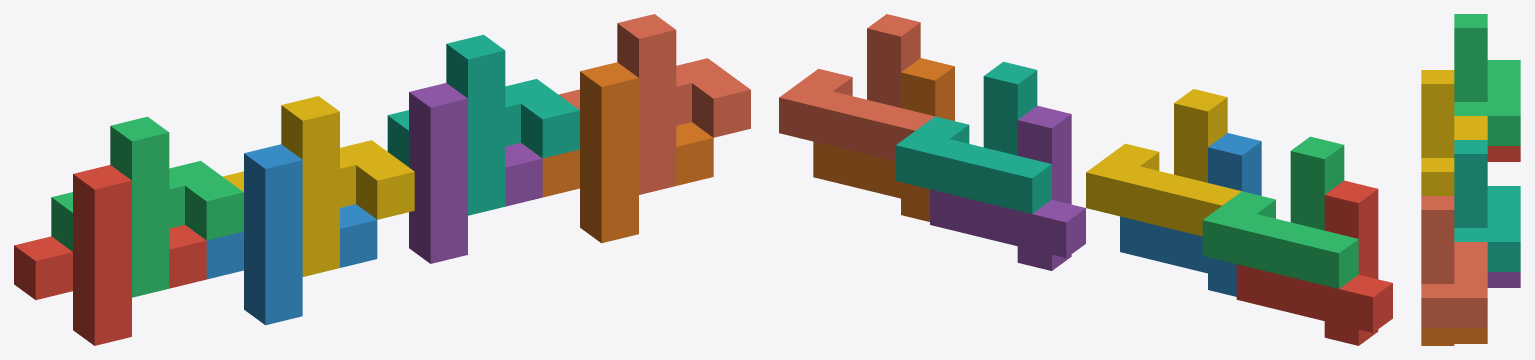
File: tiling.obj
The picture shows the model from 3 angles, left to right: view 1: azimuth 30°, elevation 25°; view 2: azimuth 150°, elevation 25°; view 3: azimuth 270°, elevation 25°; orthographic projection. The views are drawn at different scales.
Parts seen in each view (by area): view 1: copy_1_domain_1, copy_1_domain_6, copy_1_domain_2, copy_1_domain_3, copy_1_domain_7, copy_1_domain_4, copy_1_domain_8, copy_1_domain_5; view 2: copy_1_domain_3, copy_1_domain_7, copy_1_domain_4, copy_1_domain_8, copy_1_domain_1, copy_1_domain_5, copy_1_domain_2, copy_1_domain_6; view 3: copy_1_domain_8, copy_1_domain_3, copy_1_domain_7, copy_1_domain_4, copy_1_domain_6, copy_1_domain_1, copy_1_domain_5.
Part boxes in pixels (box(x1,y1,x2,y2)): copy_1_domain_1: box(14, 165, 206, 345); copy_1_domain_6: box(542, 62, 713, 243); copy_1_domain_2: box(206, 144, 377, 325); copy_1_domain_3: box(51, 116, 243, 297); copy_1_domain_7: box(387, 34, 579, 215); copy_1_domain_4: box(222, 96, 414, 276); copy_1_domain_8: box(558, 14, 750, 194); copy_1_domain_5: box(409, 83, 542, 263); copy_1_domain_3: box(1202, 136, 1358, 288); copy_1_domain_7: box(896, 61, 1051, 213); copy_1_domain_4: box(1086, 89, 1241, 236); copy_1_domain_8: box(779, 14, 934, 161); copy_1_domain_1: box(1236, 180, 1392, 345); copy_1_domain_5: box(930, 105, 1085, 270); copy_1_domain_2: box(1120, 133, 1261, 296); copy_1_domain_6: box(813, 58, 954, 221); copy_1_domain_8: box(1421, 196, 1487, 327); copy_1_domain_3: box(1454, 14, 1520, 145); copy_1_domain_7: box(1454, 140, 1520, 271); copy_1_domain_4: box(1421, 70, 1487, 195); copy_1_domain_6: box(1421, 328, 1487, 345); copy_1_domain_1: box(1487, 146, 1520, 161); copy_1_domain_5: box(1487, 272, 1520, 287).
Bounding box in the file's own units: 18 × 5 × 3.
